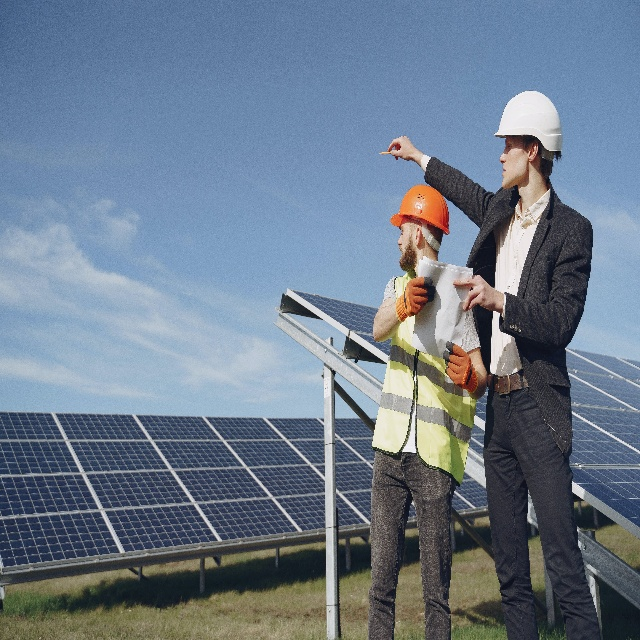Guantes: (442, 340, 478, 395), (395, 275, 436, 322)
Sin_guantes: (452, 274, 501, 312), (387, 135, 415, 164)
